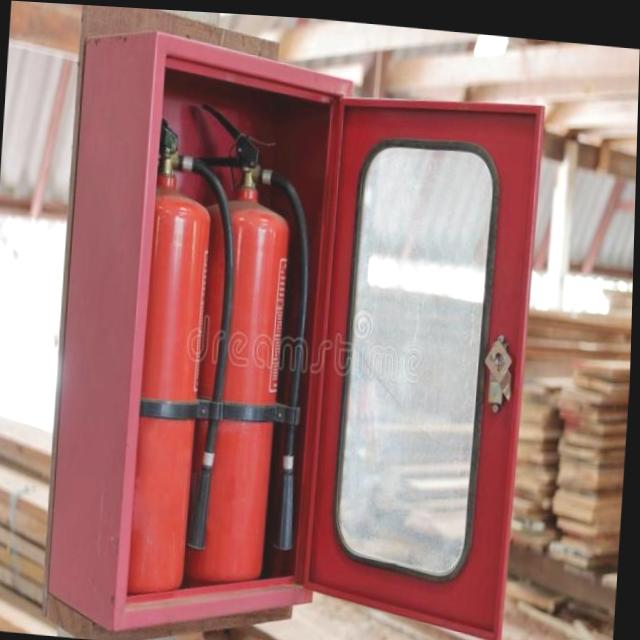FireExtinguisher: (154, 86, 323, 597), (84, 104, 244, 612)
